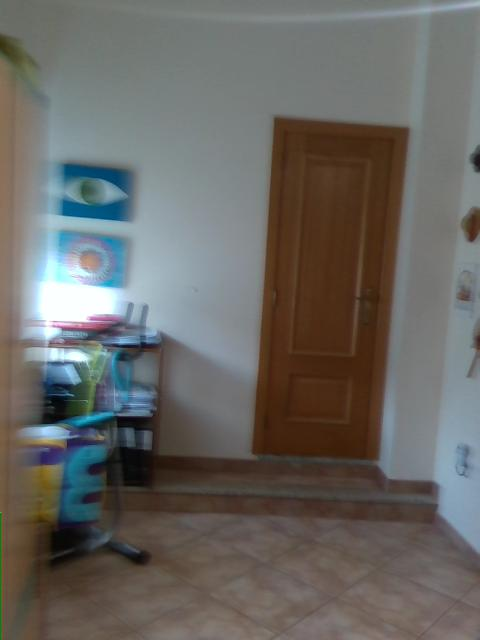door: (262, 132, 395, 458)
